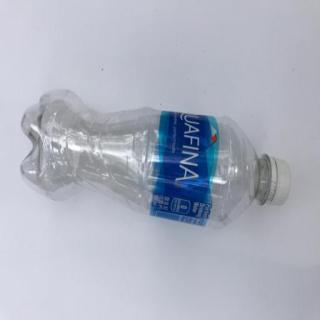Plastic-bottle: (19, 88, 295, 233)
